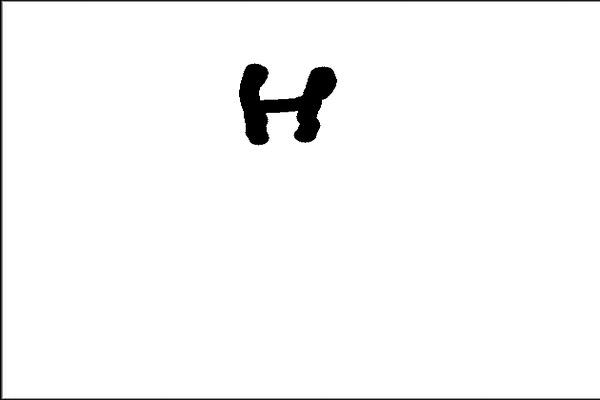H: (234, 56, 344, 154)
